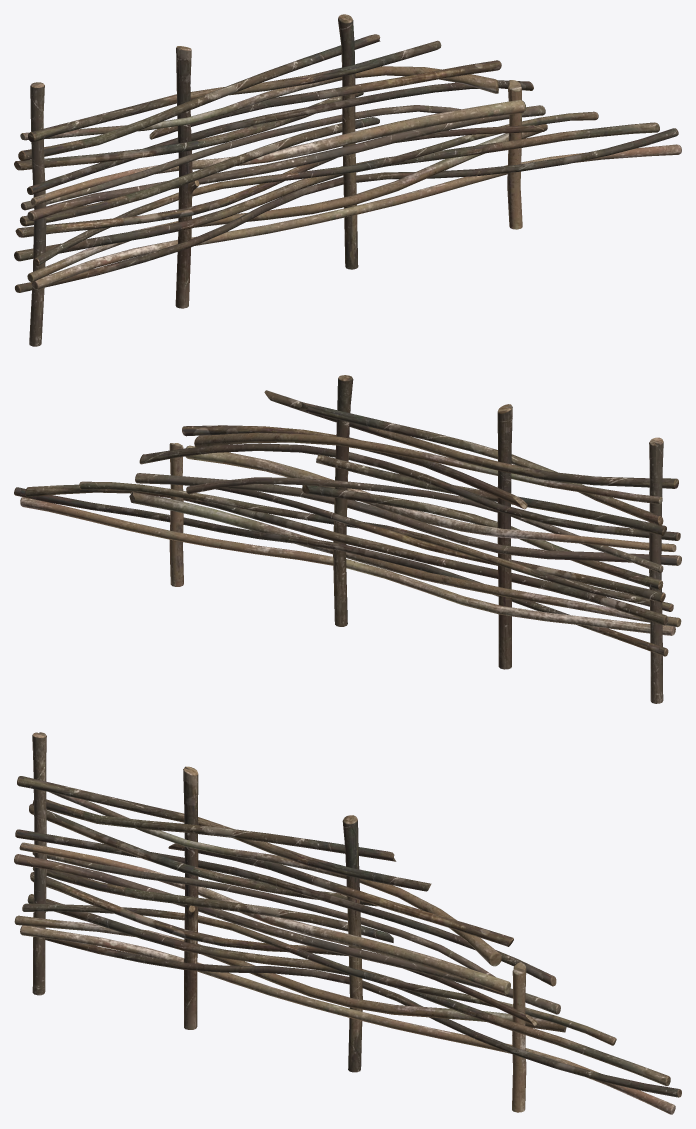
3 renders of one model, top to bottom at view 1: azimuth 30°, elevation 25°; view 2: azimuth 150°, elevation 25°; view 3: azimuth 330°, elevation 25°, orthographic.
Parts seen in each view (by area): view 1: SM_Wicker_Fence_01v1_LOD0; view 2: SM_Wicker_Fence_01v1_LOD0; view 3: SM_Wicker_Fence_01v1_LOD0.
Part boxes in pixels (x1,y1,x2,y2): SM_Wicker_Fence_01v1_LOD0: [14, 14, 681, 346]; SM_Wicker_Fence_01v1_LOD0: [14, 375, 681, 703]; SM_Wicker_Fence_01v1_LOD0: [14, 732, 681, 1114].
Size of the model in its own units: 3.98 by 1.51 by 0.2646.
1 material, 1 textured.
